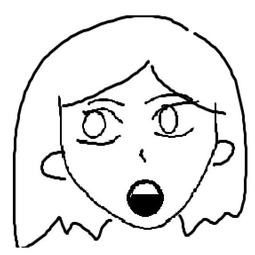ear: (34, 148, 73, 184), (208, 136, 244, 169)
eye: (75, 106, 125, 150), (148, 100, 200, 140)
eyebrow: (138, 89, 177, 105), (86, 94, 125, 108)
open_mouth: (122, 175, 169, 219)
pointy_nose: (138, 143, 150, 166)
